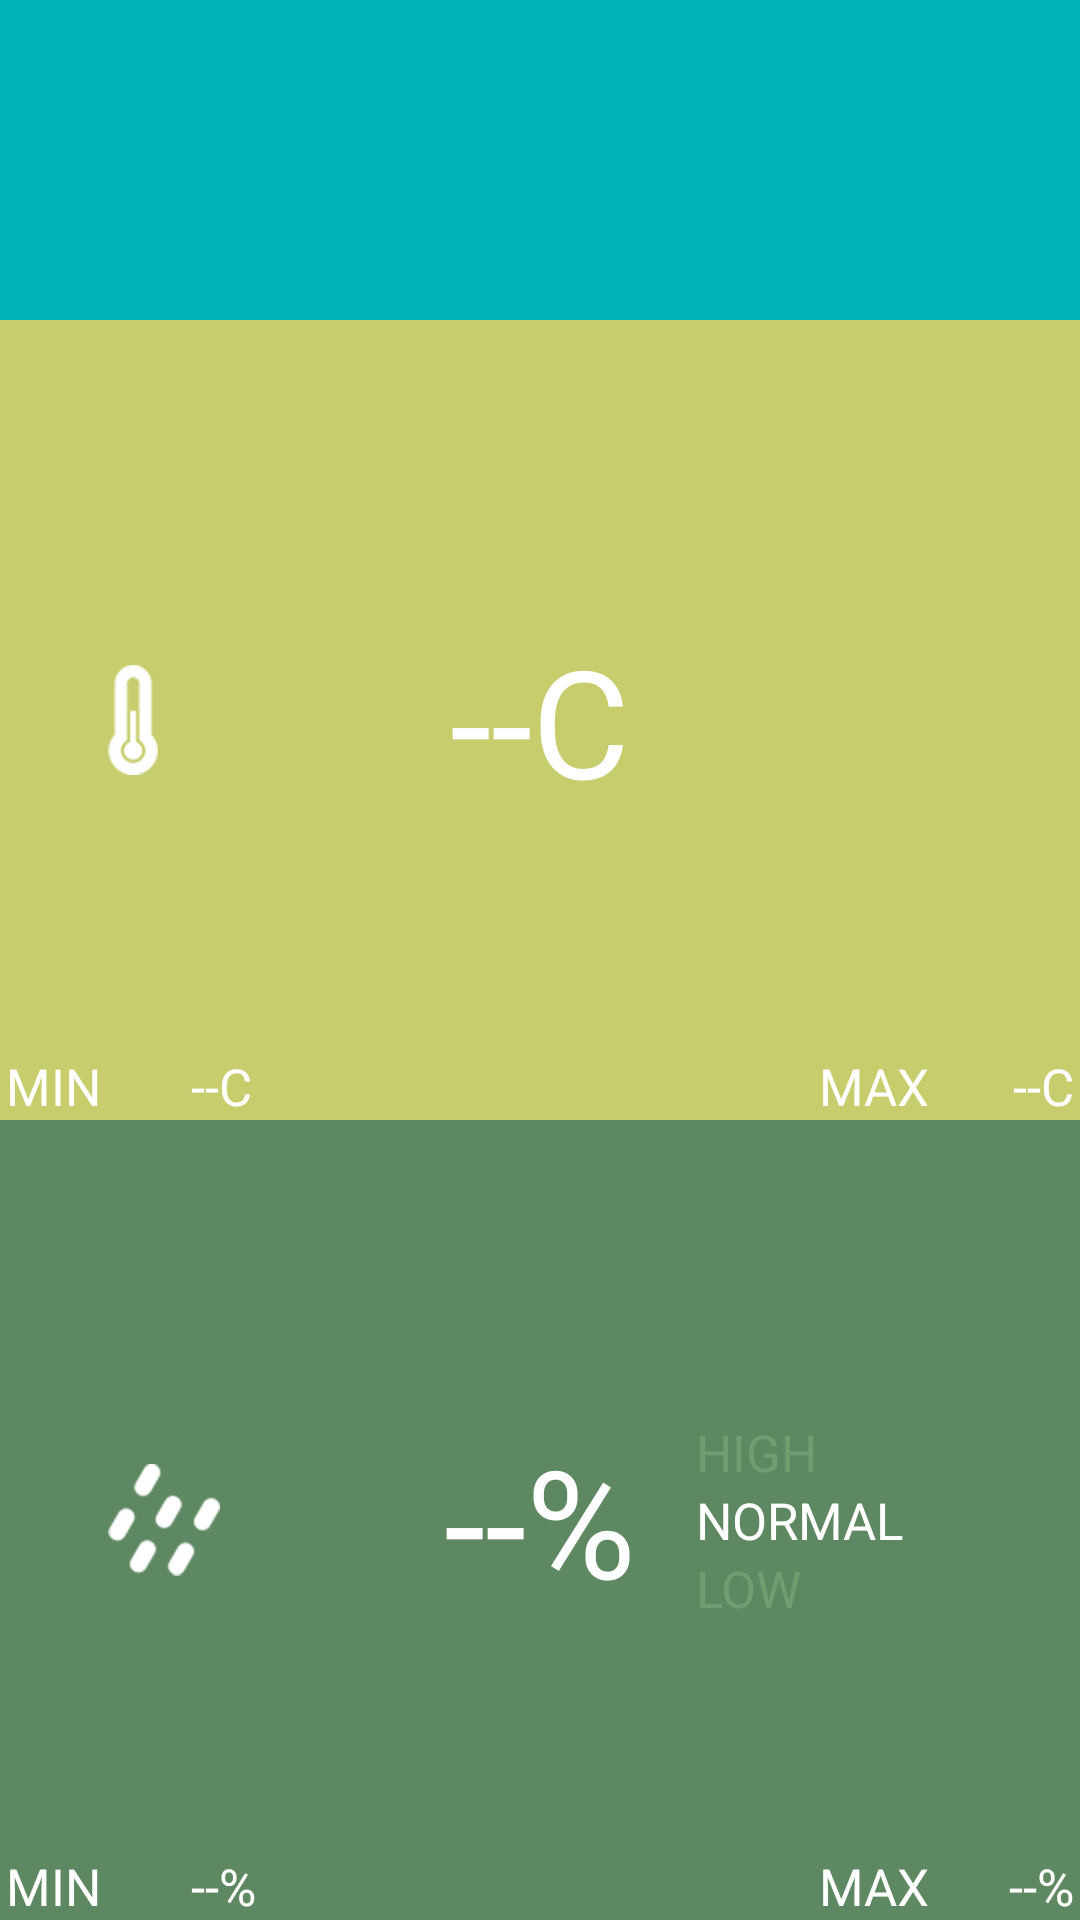

Locate icon controls on the screen. Image size 1080x1920, boxes as {"x1": x1, "y1": y1, "x2": x2, "y2": y2}.
humidity: {"x1": 108, "y1": 1464, "x2": 220, "y2": 1576}
